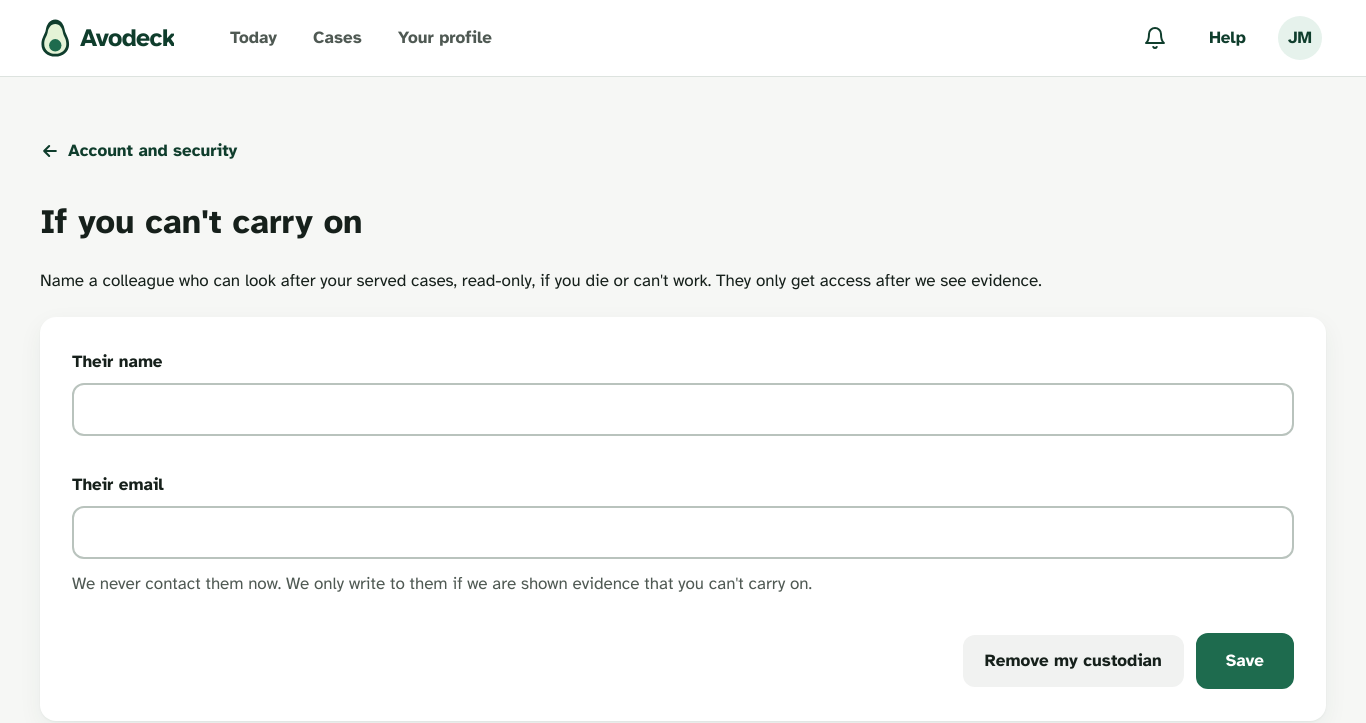
a name without an email is not sent
In the field labelled "Their name": (683, 409) [72,382,1294,436], type "Dr Amira Bello"
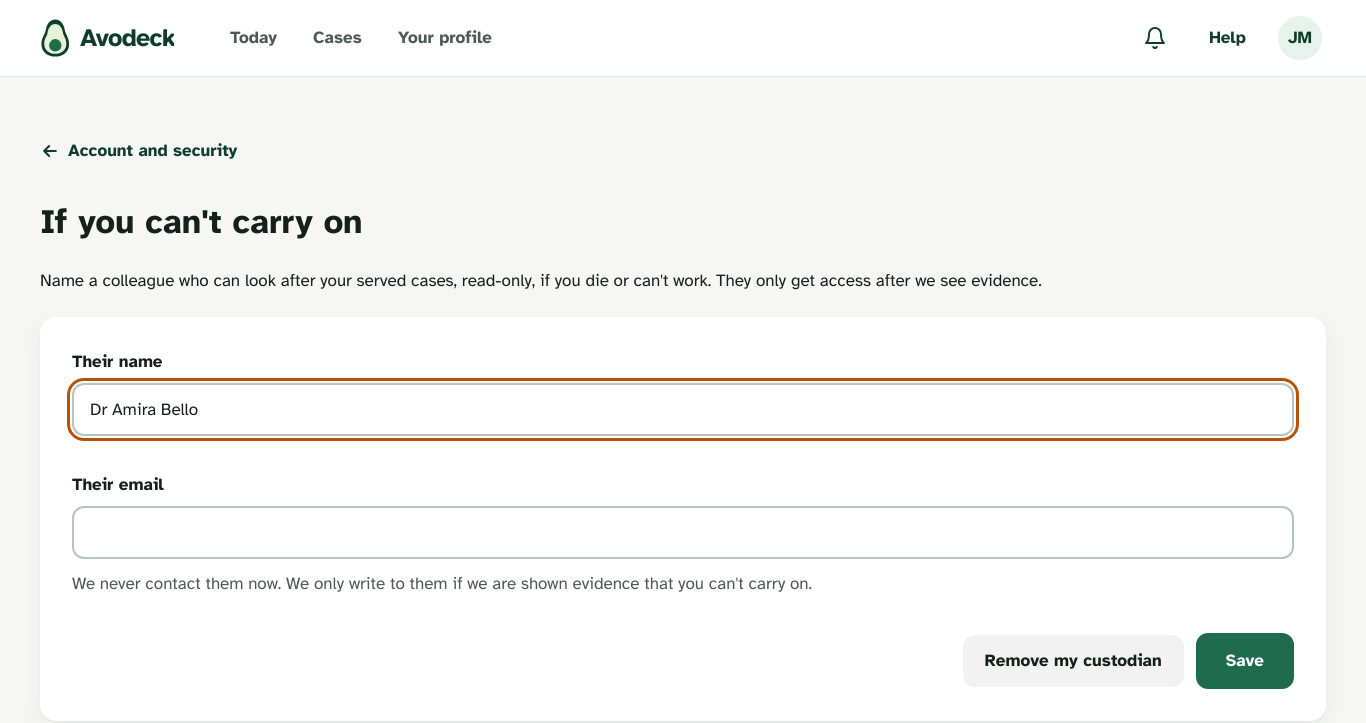
Click the button "Save": (1245, 660) [1196,632,1294,688]
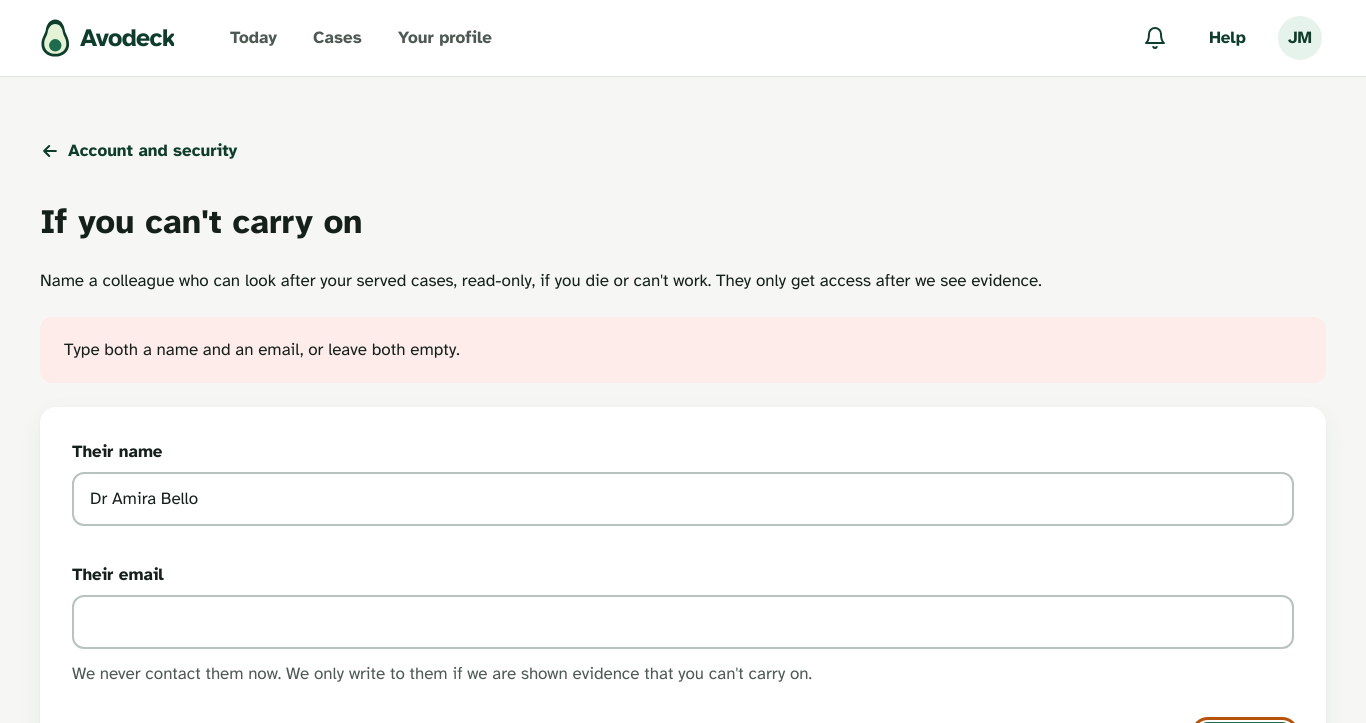
Result: the text "Type both a name and an email, or leave both empty." is shown at [64,339,460,360]
